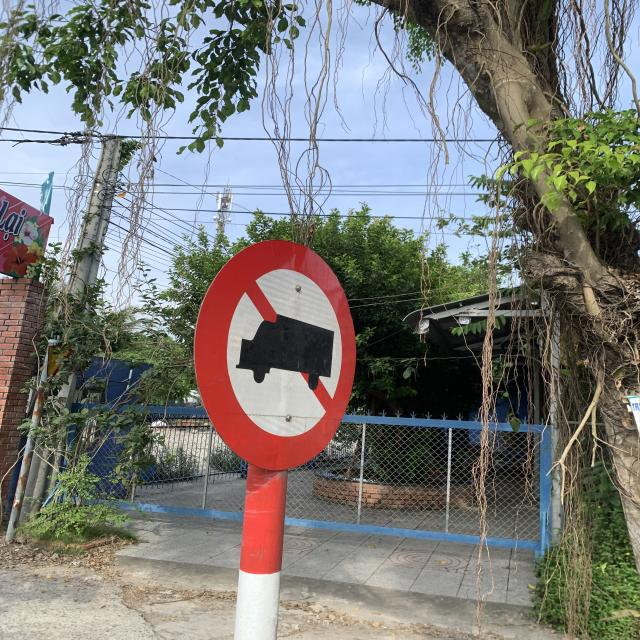Cam_Xe_Tai: (192, 237, 358, 471)
